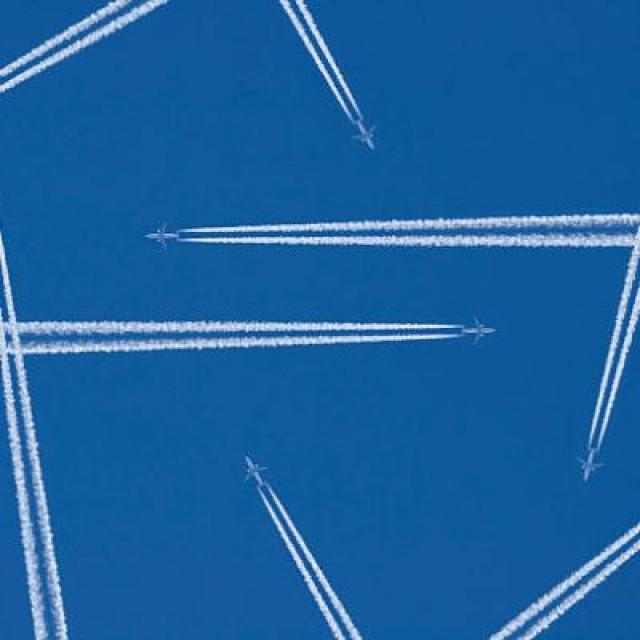Ct: (7, 16, 630, 629)
